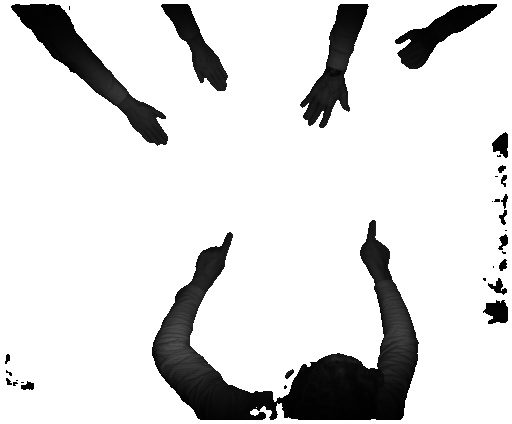hand: (296, 79, 351, 127), (196, 232, 239, 286), (127, 100, 167, 151), (392, 29, 436, 71), (360, 216, 391, 274), (193, 48, 231, 95)
